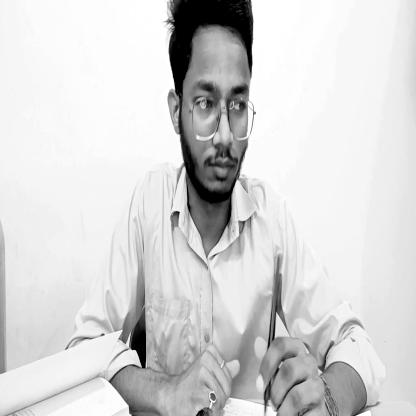Normal: (170, 2, 259, 207)
